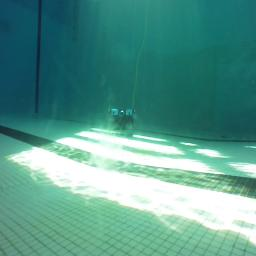front: (108, 107, 136, 130)
